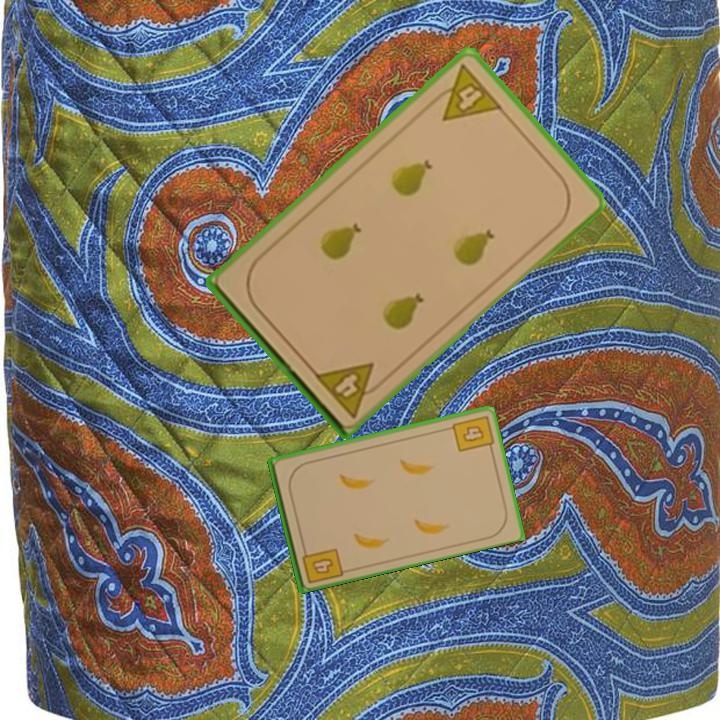4b: (298, 542, 345, 586), (448, 412, 496, 454)
4p: (425, 60, 506, 124), (310, 358, 389, 421)
